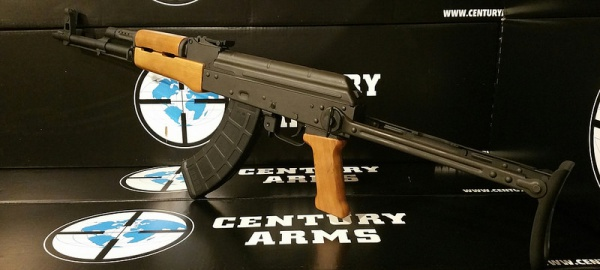ak47: (51, 11, 566, 254)
